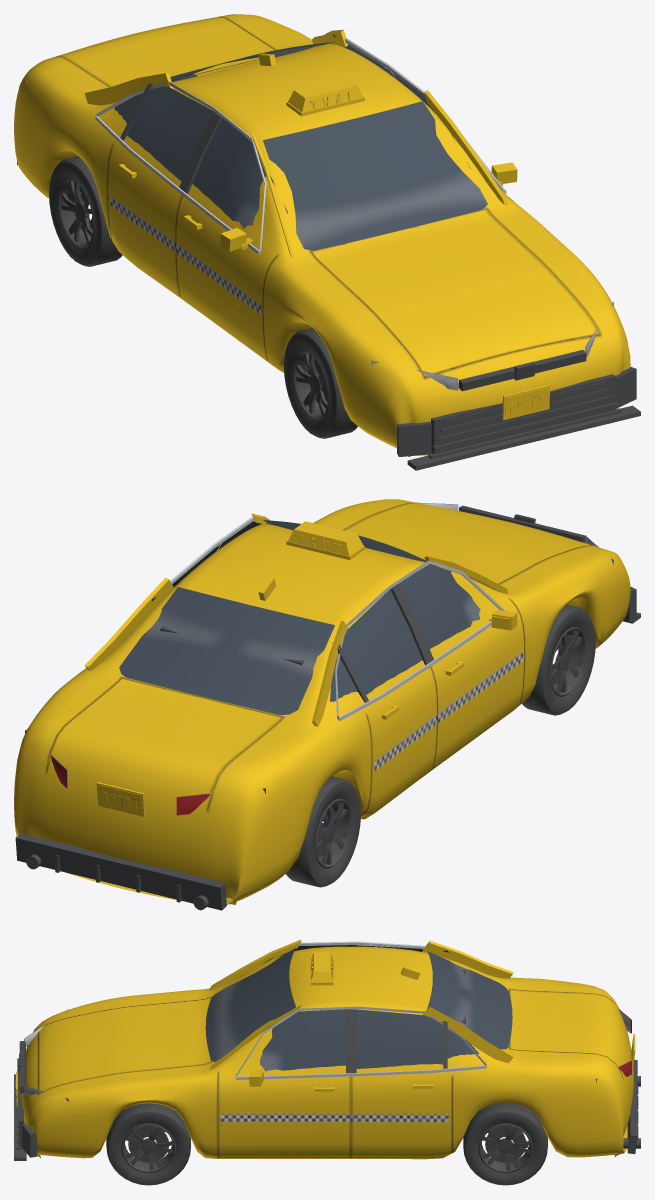
The model's file is CarTaxi.fbx.
The picture shows the model from 3 angles, top to bottom: view 1: azimuth 30°, elevation 25°; view 2: azimuth 150°, elevation 25°; view 3: azimuth 270°, elevation 25°; orthographic projection. The views are drawn at different scales.
Visible parts, largest first — view 1: CarTaxi; view 2: CarTaxi; view 3: CarTaxi.
Boxes of the visible parts, x1,y1,x2,y2 form: CarTaxi: (14,14,640,470); CarTaxi: (14,499,640,910); CarTaxi: (14,939,640,1185).
Bounding box in the file's own units: 203 × 154 × 495.
1 material, 1 textured.
